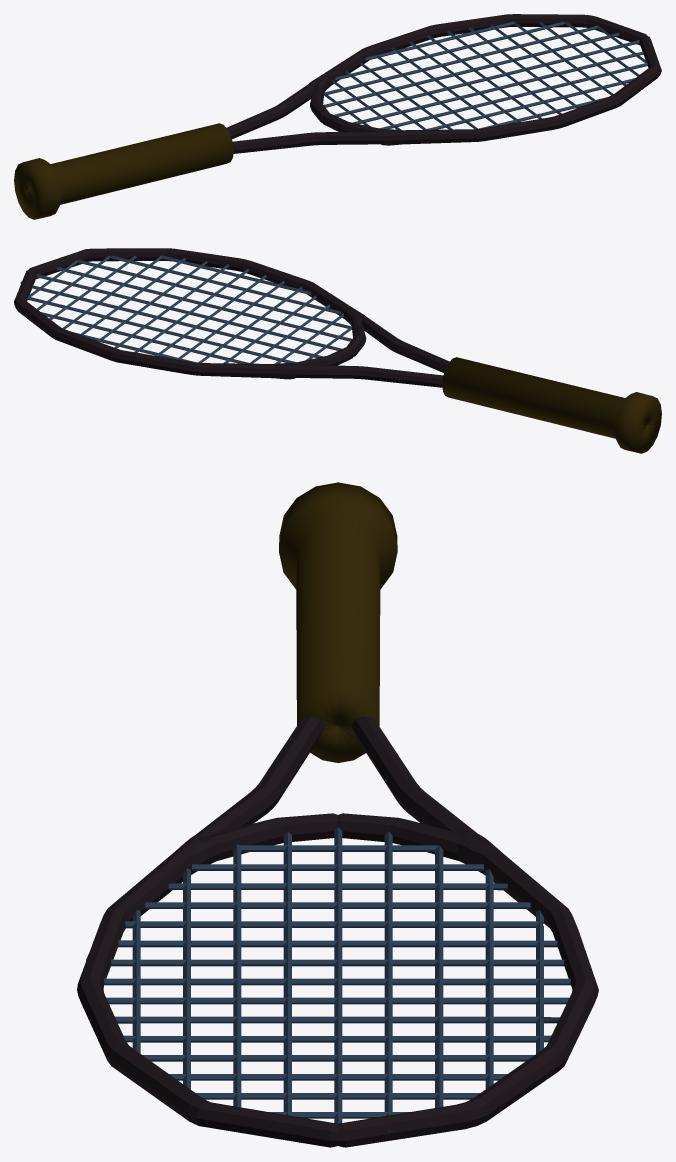
Rendered from tennisracketSolid.fbx.
3 views of the same model, one above another, from view 1: azimuth 30°, elevation 25°; view 2: azimuth 150°, elevation 25°; view 3: azimuth 270°, elevation 25° (orthographic). The views are drawn at different scales.
Visible parts, largest first — view 1: Vert.002, Plane, Point.002; view 2: Vert.002, Plane, Point.002; view 3: Plane, Vert.002, Point.002.
Boxes of the visible parts, x1=… form: Vert.002: x1=226, y1=14, x2=661, y2=153; Plane: x1=324, y1=21, x2=647, y2=131; Point.002: x1=14, y1=123, x2=233, y2=219; Vert.002: x1=14, y1=248, x2=449, y2=387; Plane: x1=20, y1=255, x2=363, y2=363; Point.002: x1=442, y1=357, x2=661, y2=453; Plane: x1=86, y1=827, x2=570, y2=1131; Vert.002: x1=77, y1=716, x2=598, y2=1147; Point.002: x1=279, y1=482, x2=397, y2=762.
Bounding box in the file's own units: 97.11 × 8.04 × 35.33.
